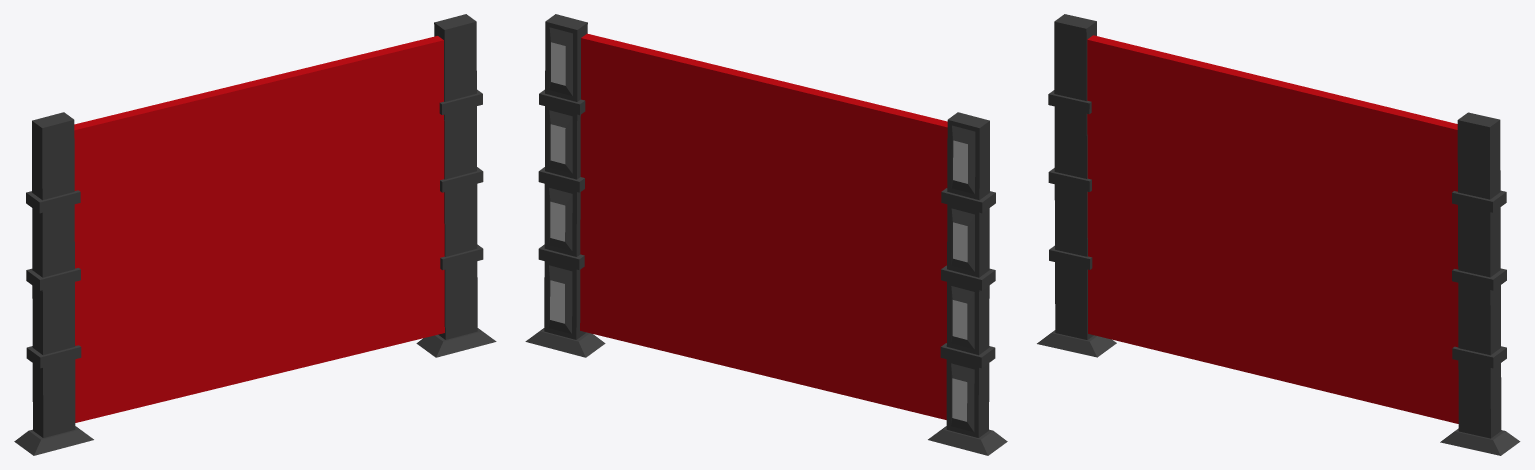
The model's file is Gate.fbx.
The picture shows the model from 3 angles, left to right: view 1: azimuth 30°, elevation 25°; view 2: azimuth 150°, elevation 25°; view 3: azimuth 330°, elevation 25°; orthographic projection.
Visible parts, largest first — view 1: Plane.004, Plane.003, Plane.002; view 2: Plane.004, Plane.003, Plane.002; view 3: Plane.004, Plane.002, Plane.003.
Part boxes in pixels (left/top/right/bottom): Plane.004: left=74, top=36, right=444, bottom=422; Plane.003: left=14, top=112, right=93, bottom=455; Plane.002: left=416, top=14, right=496, bottom=357; Plane.004: left=580, top=33, right=947, bottom=419; Plane.003: left=928, top=112, right=1007, bottom=455; Plane.002: left=525, top=14, right=605, bottom=357; Plane.004: left=1087, top=35, right=1458, bottom=423; Plane.002: left=1440, top=112, right=1520, bottom=455; Plane.003: left=1037, top=14, right=1116, bottom=357.
Bounding box in the file's own units: 1335 × 887 × 98.07.
